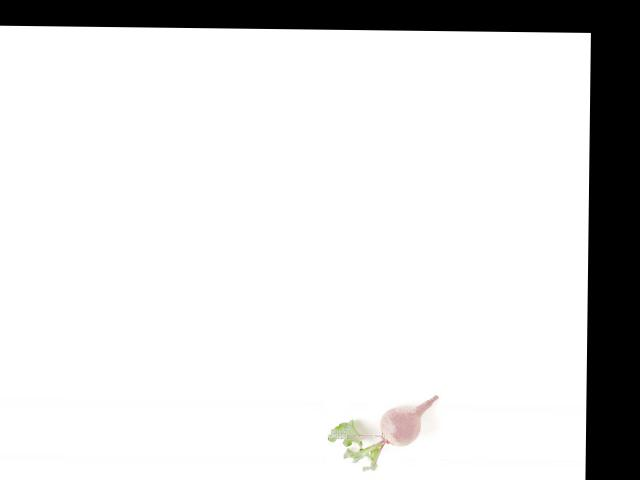beet: (326, 393, 437, 472)
